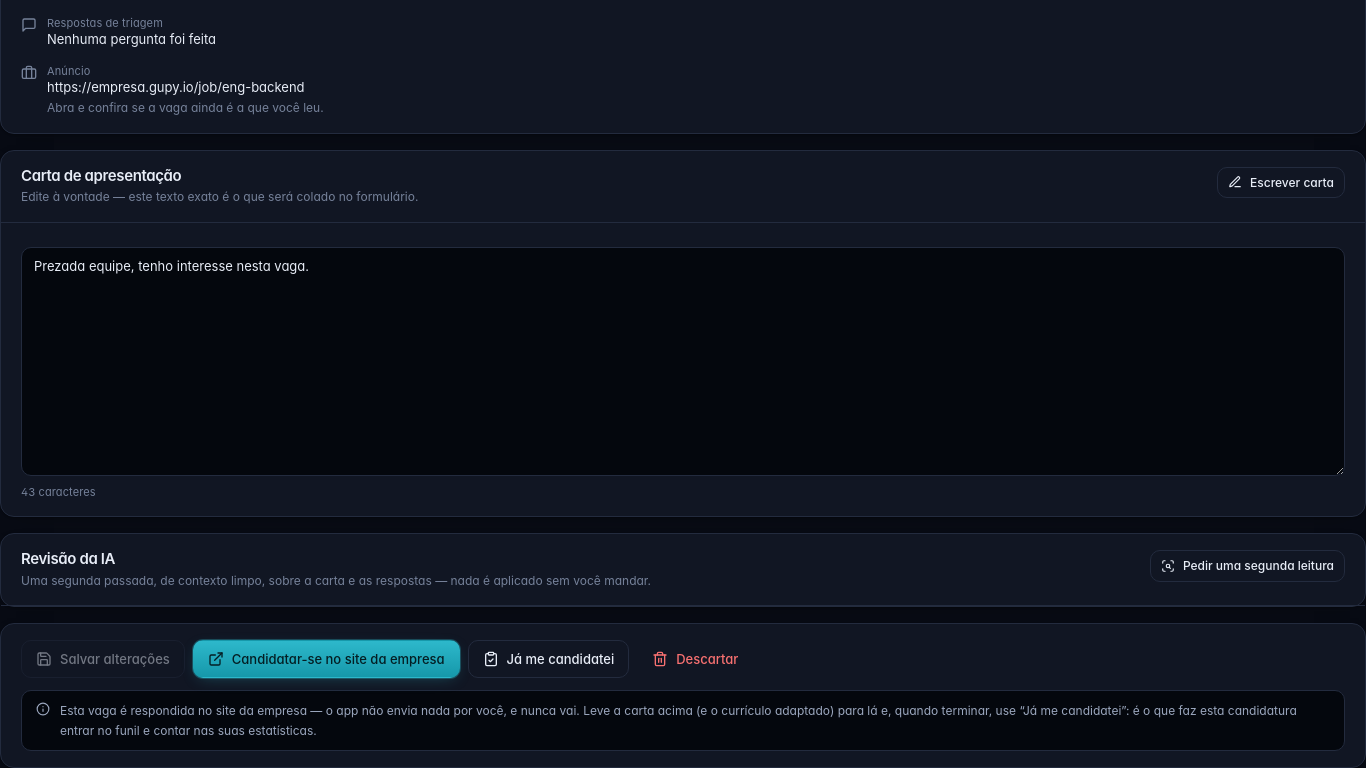
it: ApplicationReviewPanel on the external channel › asks for a confirmation before recording, and says it sends nothing
(page scrolled)
Click the button "Já me candidatei": (548, 659) [468,640,629,678]
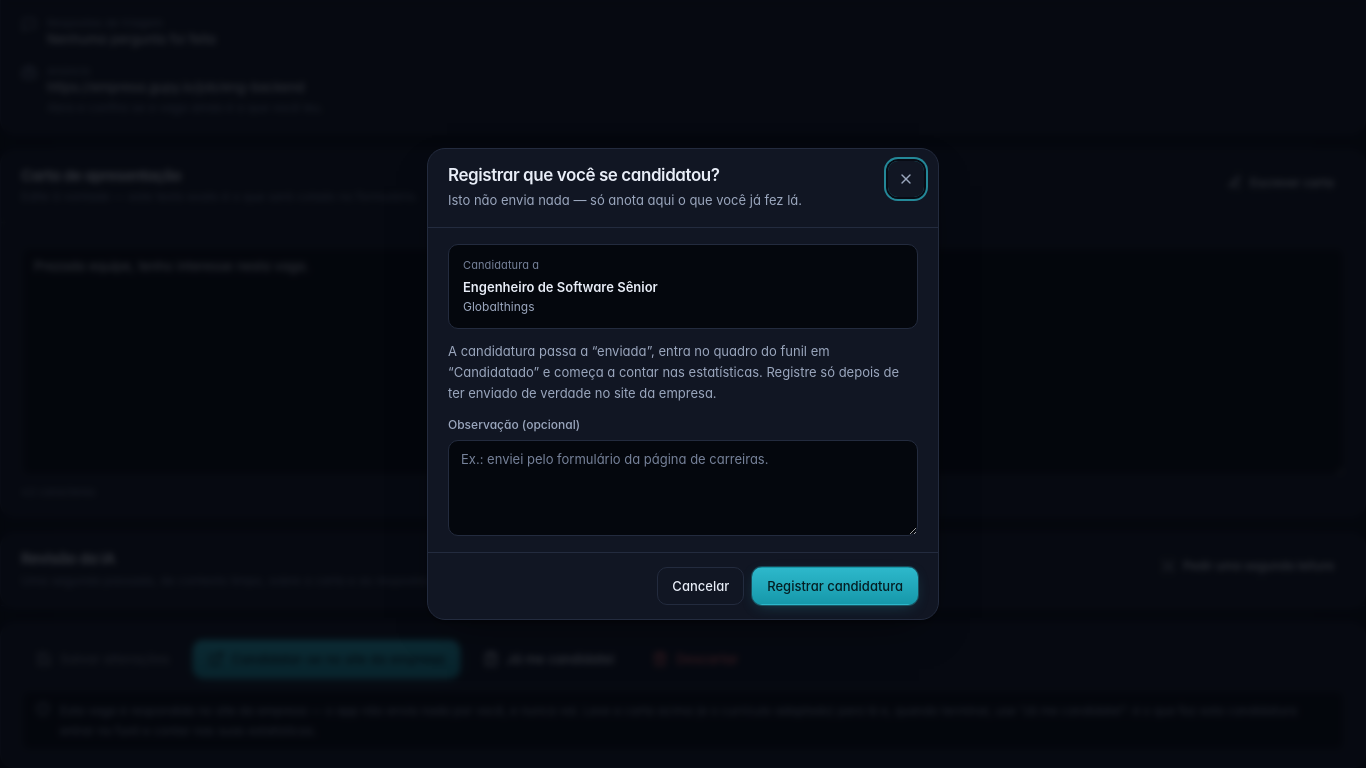
Result: the heading "Registrar que você se candidatou?" is shown at [448,165,720,185]
Result: the text "Isto não envia nada — só anota aqui o que você já fez lá." is shown at [448,192,802,208]
Result: the button "Registrar candidatura" is shown at [752,567,918,605]
